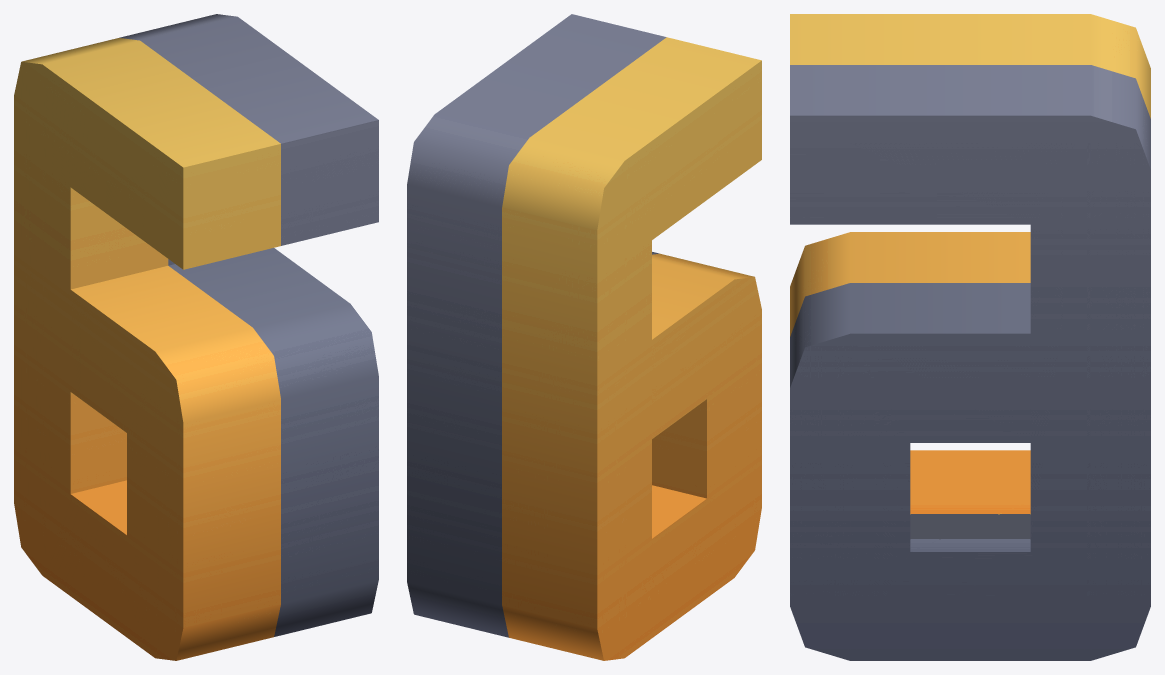
File: number-double-6.glb
3 renders of one model, left to right at view 1: azimuth 30°, elevation 25°; view 2: azimuth 150°, elevation 25°; view 3: azimuth 270°, elevation 25°, orthographic. The views are drawn at different scales.
Visible parts, largest first — view 1: number-double-6; view 2: number-double-6; view 3: number-double-6.
Part boxes in pixels (<box>): number-double-6: <box>14,14,378,660</box>; number-double-6: <box>407,14,761,660</box>; number-double-6: <box>790,14,1150,660</box>.
Size of the model in its own units: 0.2 by 0.5 by 0.3.
Materials: 1 (1 with a texture image).
